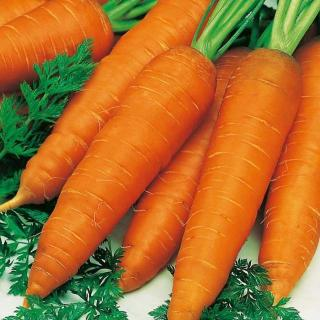carrot: (24, 46, 214, 310), (95, 30, 261, 302), (8, 0, 215, 210), (166, 44, 304, 320), (253, 33, 318, 309), (0, 0, 121, 84)
